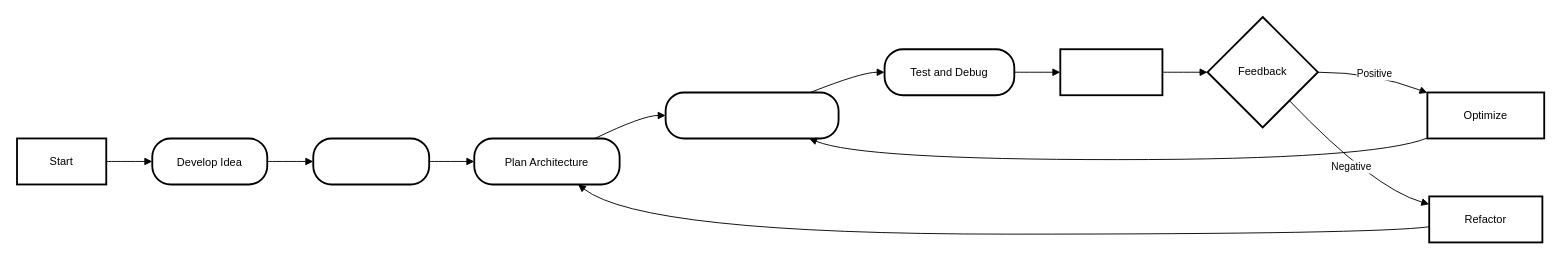
The diagram is 1560 pixels wide and 259 high, and some of its shapes have lost their labels. Here are the shapes that lost their labels. From the top down, the centre of each, then its label:
pixel 1111 72: Deploy
pixel 751 115: Develop Functionality
pixel 371 161: Design UI/UX
